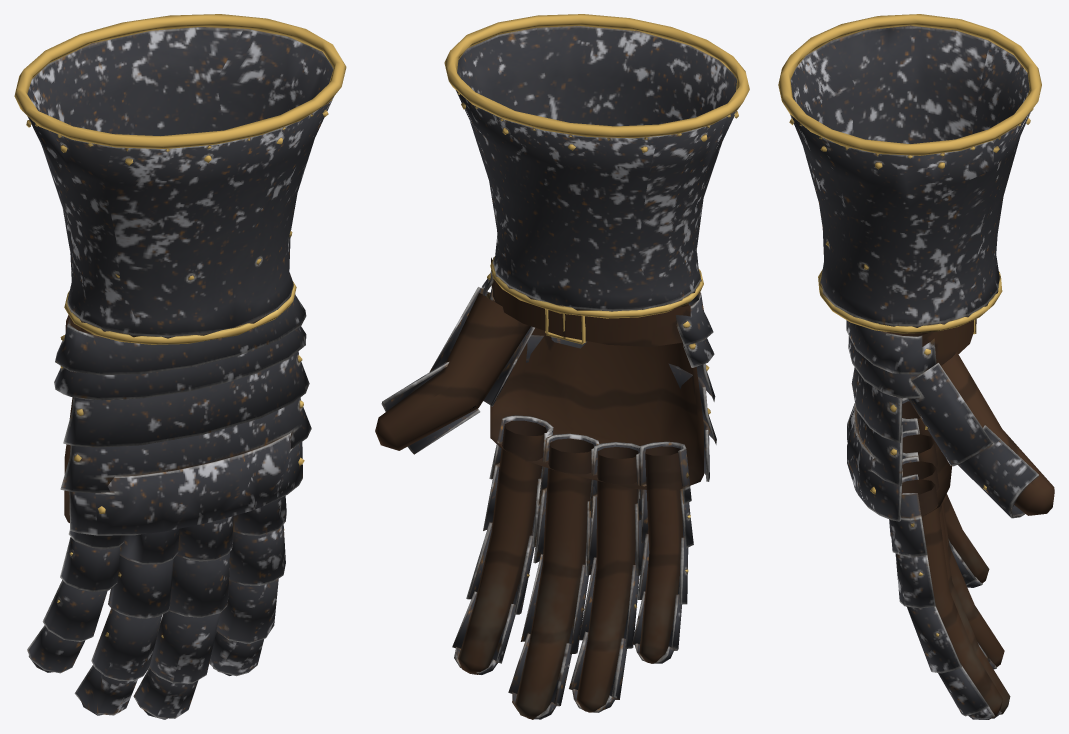
File: SM_EagleGauntlets_L_LOD2.fbx
3 views of the same model, side by side, from view 1: azimuth 30°, elevation 25°; view 2: azimuth 150°, elevation 25°; view 3: azimuth 270°, elevation 25° (orthographic). The views are drawn at different scales.
Parts seen in each view (by area): view 1: SM_EagleGauntlets_L_LOD2; view 2: SM_EagleGauntlets_L_LOD2; view 3: SM_EagleGauntlets_L_LOD2.
Part boxes in pixels (x1=…): SM_EagleGauntlets_L_LOD2: x1=14, y1=14, x2=346, y2=719; SM_EagleGauntlets_L_LOD2: x1=375, y1=14, x2=749, y2=719; SM_EagleGauntlets_L_LOD2: x1=778, y1=14, x2=1054, y2=719.
Bounding box in the file's own units: 0.1481 × 0.2966 × 0.1189.
